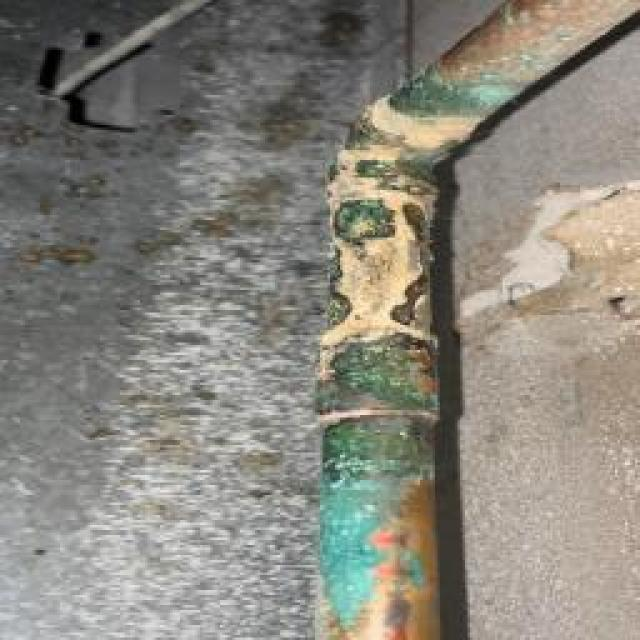rust: (313, 1, 639, 639)
